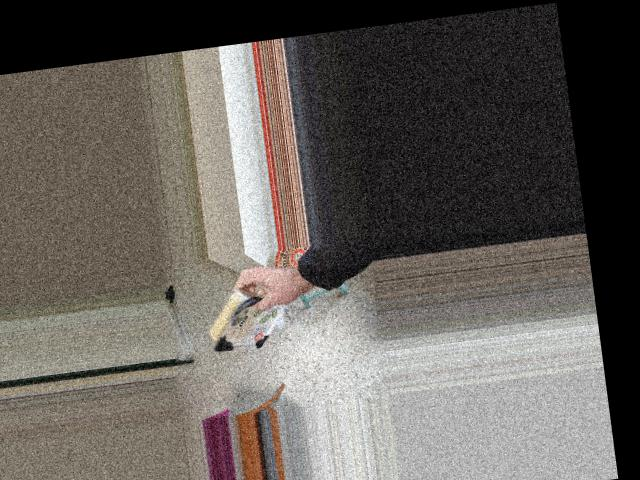cheese: (181, 259, 287, 380)
